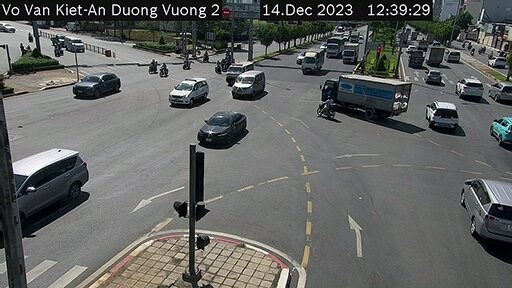car: (10, 149, 91, 226), (459, 170, 512, 243), (203, 102, 247, 153), (72, 73, 127, 105), (172, 77, 211, 107), (233, 67, 268, 100), (424, 98, 459, 129), (491, 114, 512, 147), (458, 75, 485, 100), (229, 59, 252, 87), (62, 36, 92, 55), (493, 79, 511, 108), (423, 68, 446, 86), (447, 49, 465, 66)
motorbike: (317, 92, 338, 120), (155, 62, 171, 79), (182, 54, 195, 69), (146, 58, 156, 76)
truck: (305, 43, 330, 80), (326, 35, 349, 58), (340, 41, 361, 62), (427, 45, 444, 68), (408, 49, 424, 70)
